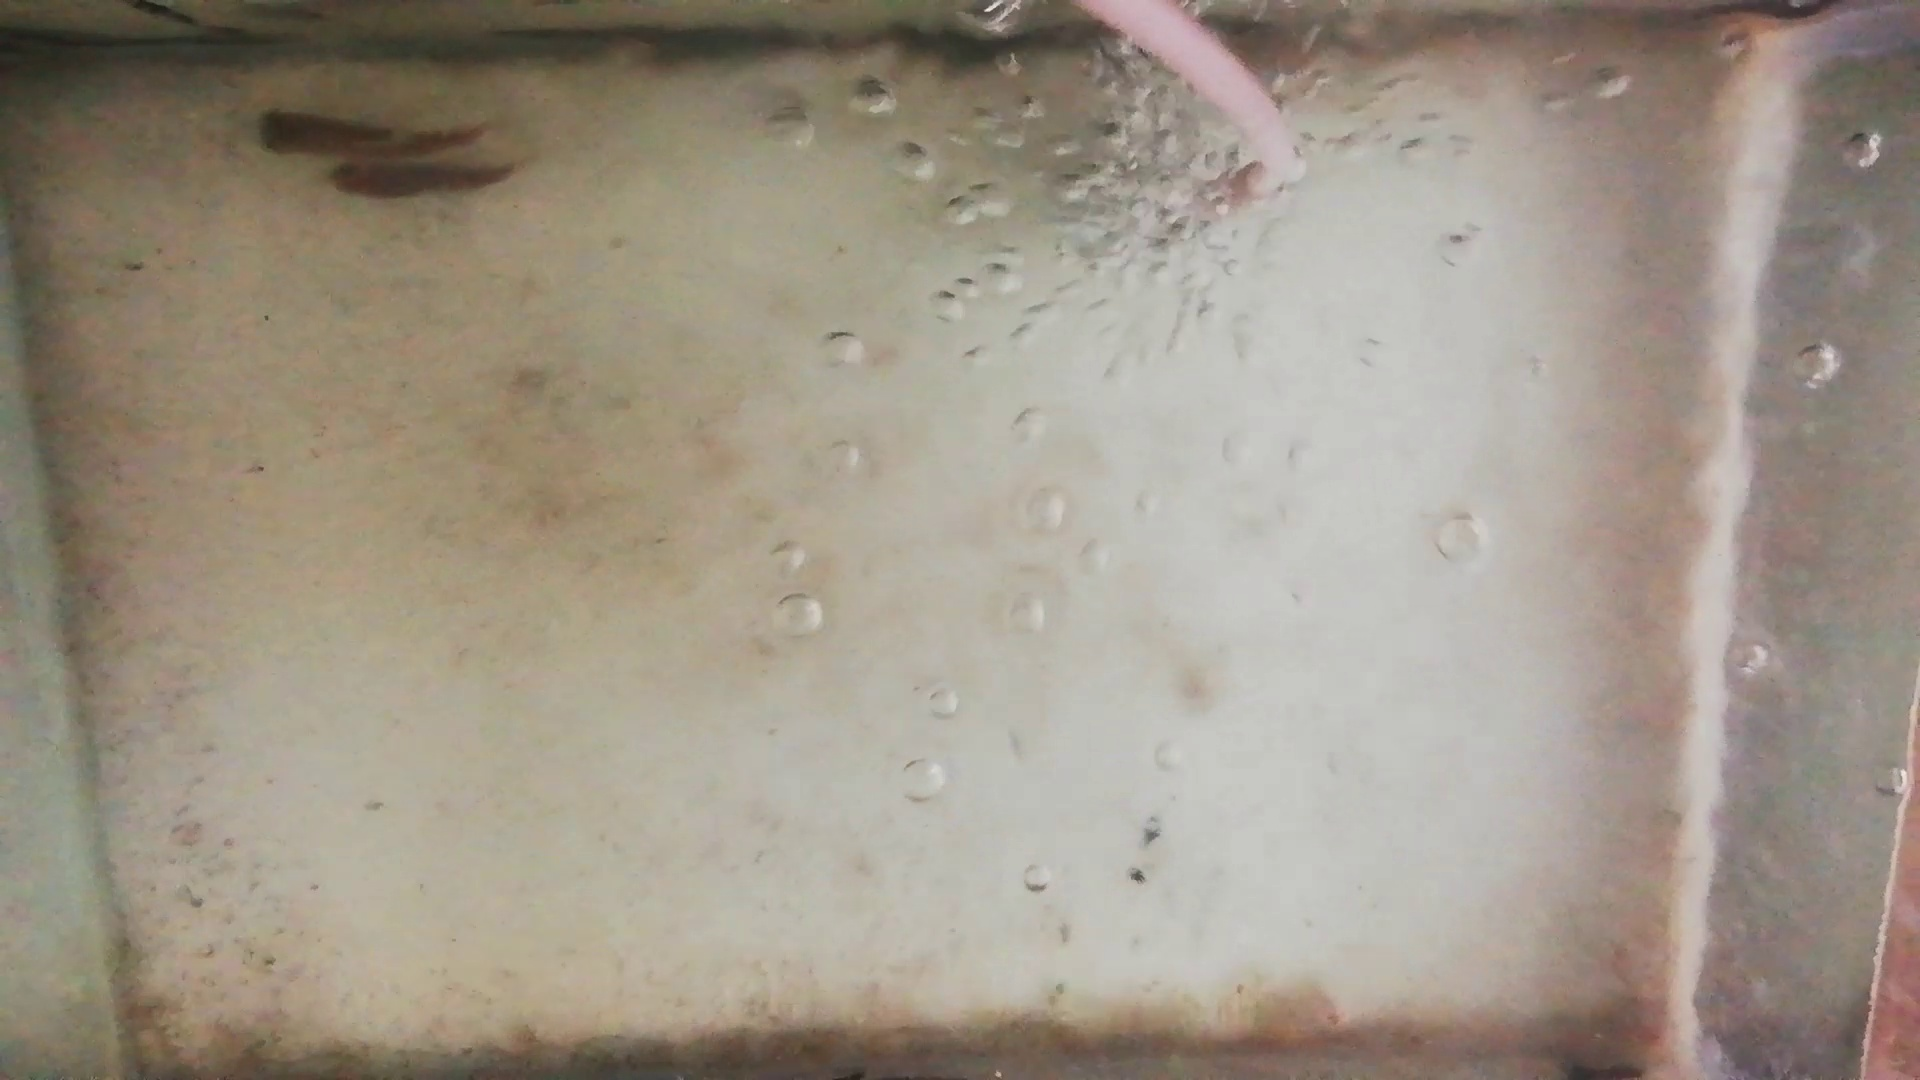fish: (252, 107, 477, 158), (322, 154, 512, 200)
